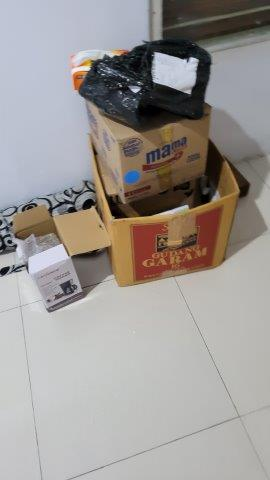kardus: (84, 103, 237, 285), (10, 205, 111, 312)
kertas: (151, 52, 197, 96)
